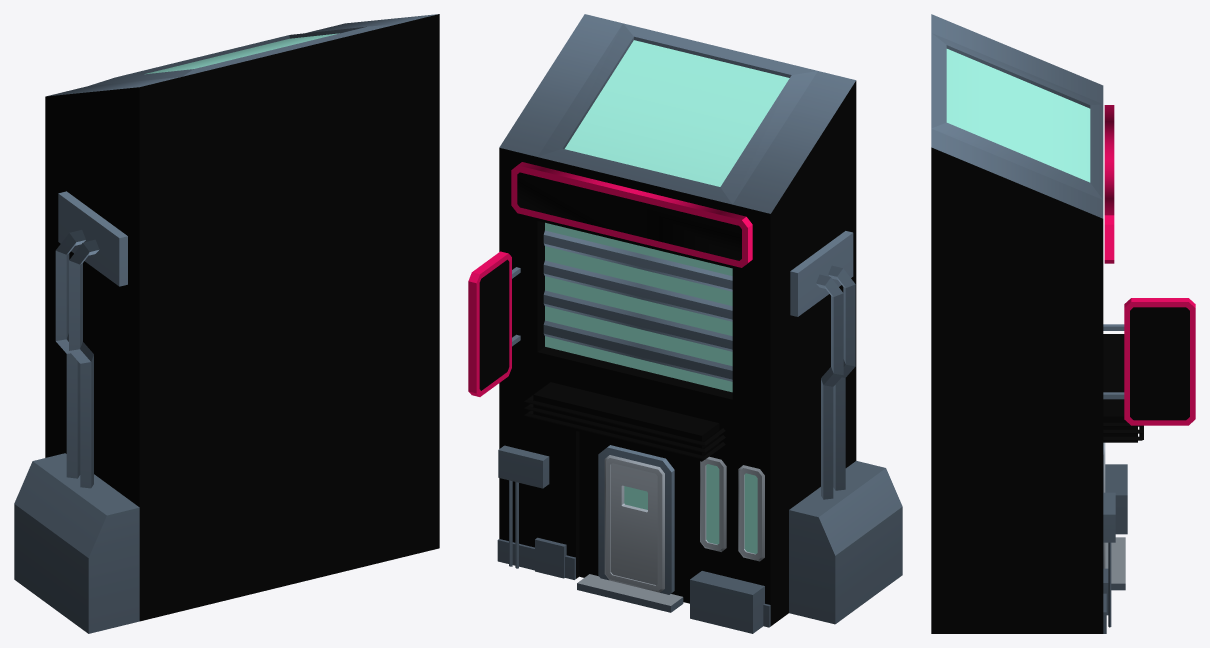
File: Comercio_Edificio_04.FBX
The picture shows the model from 3 angles, left to right: view 1: azimuth 30°, elevation 25°; view 2: azimuth 150°, elevation 25°; view 3: azimuth 270°, elevation 25°; orthographic projection. The views are drawn at different scales.
Visible parts, largest first — view 1: Comercio_Edificio_04; view 2: Comercio_Edificio_04; view 3: Comercio_Edificio_04.
Part boxes in pixels (x1=…): Comercio_Edificio_04: x1=14, y1=14, x2=439, y2=633; Comercio_Edificio_04: x1=468, y1=14, x2=902, y2=633; Comercio_Edificio_04: x1=931, y1=14, x2=1195, y2=633.
Bounding box in the file's own units: 780 × 559 × 1135.
